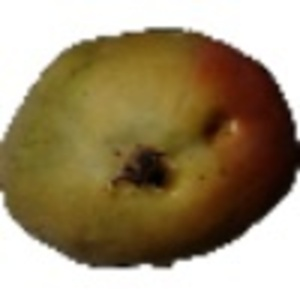mamão: (3, 20, 297, 275)
